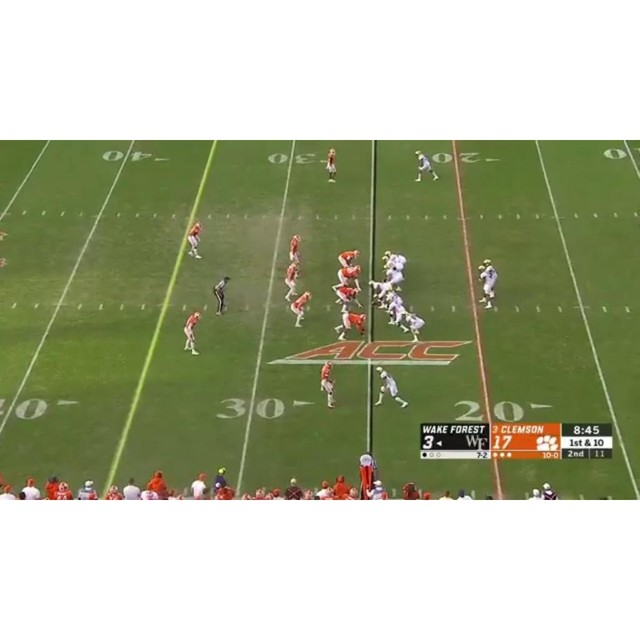american-football-player: (374, 365, 409, 408), (477, 260, 499, 310), (334, 312, 369, 341), (183, 309, 202, 355), (288, 291, 312, 327), (386, 296, 409, 333), (333, 265, 363, 292), (414, 150, 439, 182), (333, 286, 362, 313), (320, 361, 336, 408), (368, 279, 392, 309), (284, 259, 301, 301), (404, 310, 426, 342), (187, 221, 204, 259), (382, 264, 405, 291), (337, 249, 361, 271), (326, 146, 337, 183), (289, 234, 301, 264)
referee: (214, 275, 231, 315)
